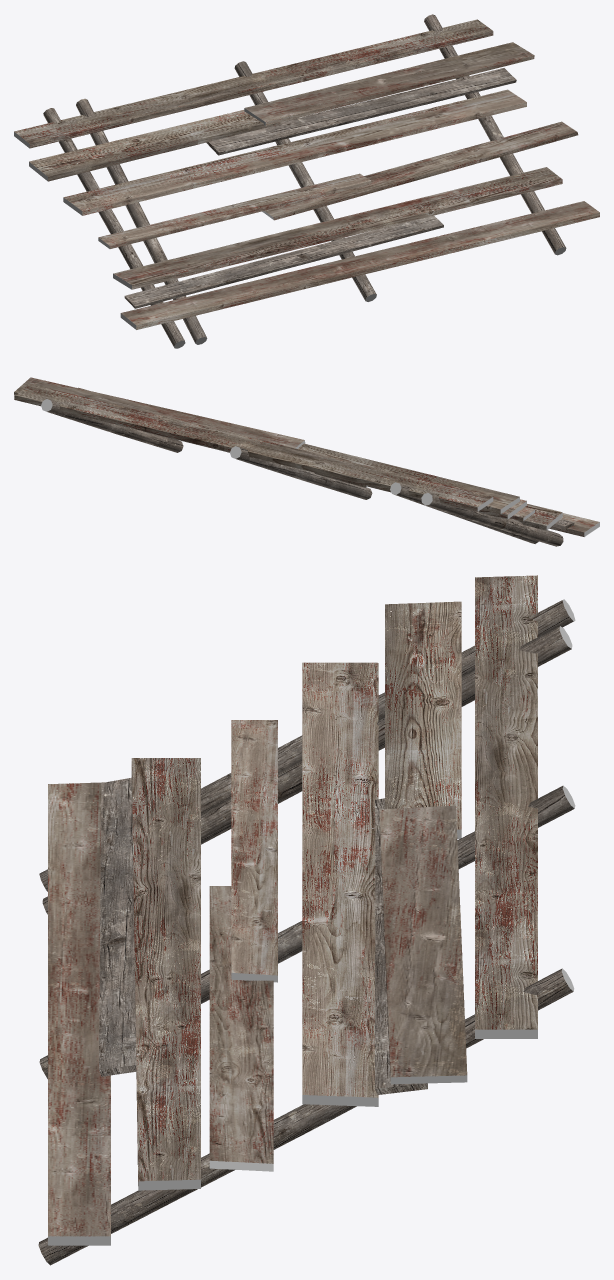
The model's file is WoodStairs2_LOD1.fbx.
The picture shows the model from 3 angles, top to bottom: view 1: azimuth 30°, elevation 25°; view 2: azimuth 150°, elevation 25°; view 3: azimuth 270°, elevation 25°; orthographic projection. The views are drawn at different scales.
Visible parts, largest first — view 1: polySurface1232; view 2: polySurface1232; view 3: polySurface1232.
Part boxes in pixels (x1,y1,x2,y2): polySurface1232: (14,14,599,348); polySurface1232: (14,377,599,546); polySurface1232: (38,575,575,1265).
Size of the model in its own units: 4.43 by 1.31 by 2.11.
